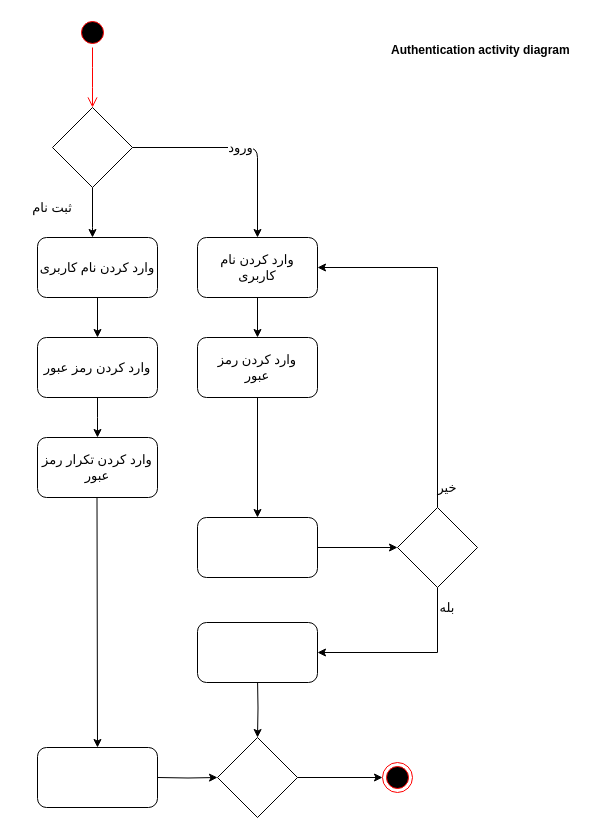
This 606x835 diagram has some shape labels left out. The shapes that lost their labels are listed below. From the top down, each one's box as (x1, y1, x2, y2) in pixels, then its label:
(196, 516, 318, 578): بررسی صحت اطلاعات وارد شده با پایگاه
(196, 622, 318, 682): ورود به سیستم
(36, 746, 158, 808): ایجاد تغییرات در پایگاه داده
